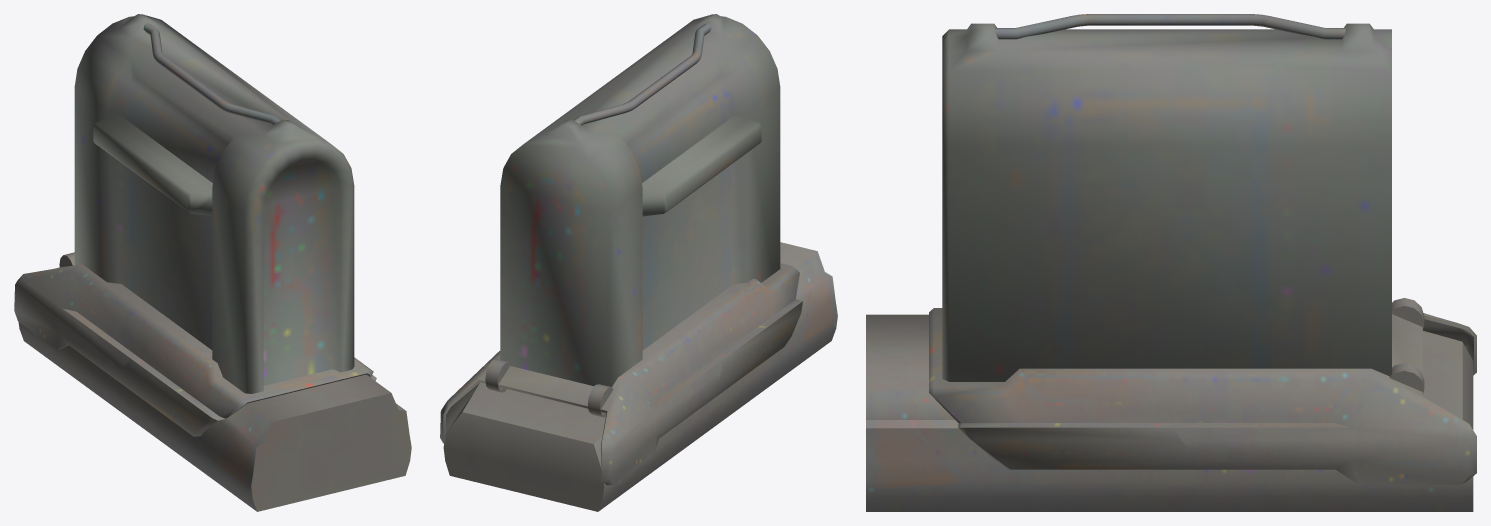
The model's file is mag4.obj.
3 renders of one model, left to right at view 1: azimuth 30°, elevation 25°; view 2: azimuth 150°, elevation 25°; view 3: azimuth 270°, elevation 25°, orthographic. The views are drawn at different scales.
Parts seen in each view (by area): view 1: mag4; view 2: mag4; view 3: mag4.
Part boxes in pixels (box(x1,y1,x2,y2)): mag4: box(14, 14, 411, 511); mag4: box(440, 14, 837, 511); mag4: box(866, 14, 1476, 511).
Bounding box in the file's own units: 9.36 × 17.78 × 22.36.
